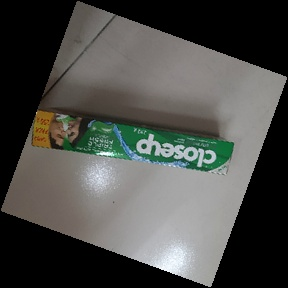CloseUp Xanh: (31, 106, 236, 176)
